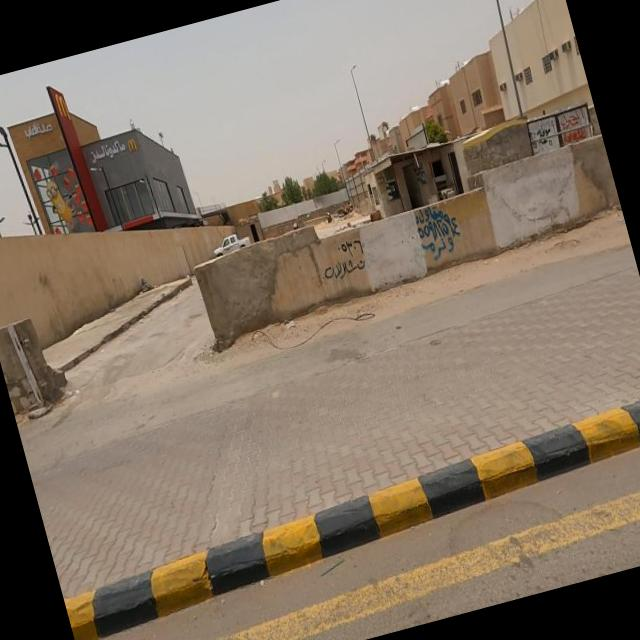debris: (202, 271, 362, 408), (360, 162, 506, 306), (286, 189, 416, 333), (486, 78, 609, 190)
